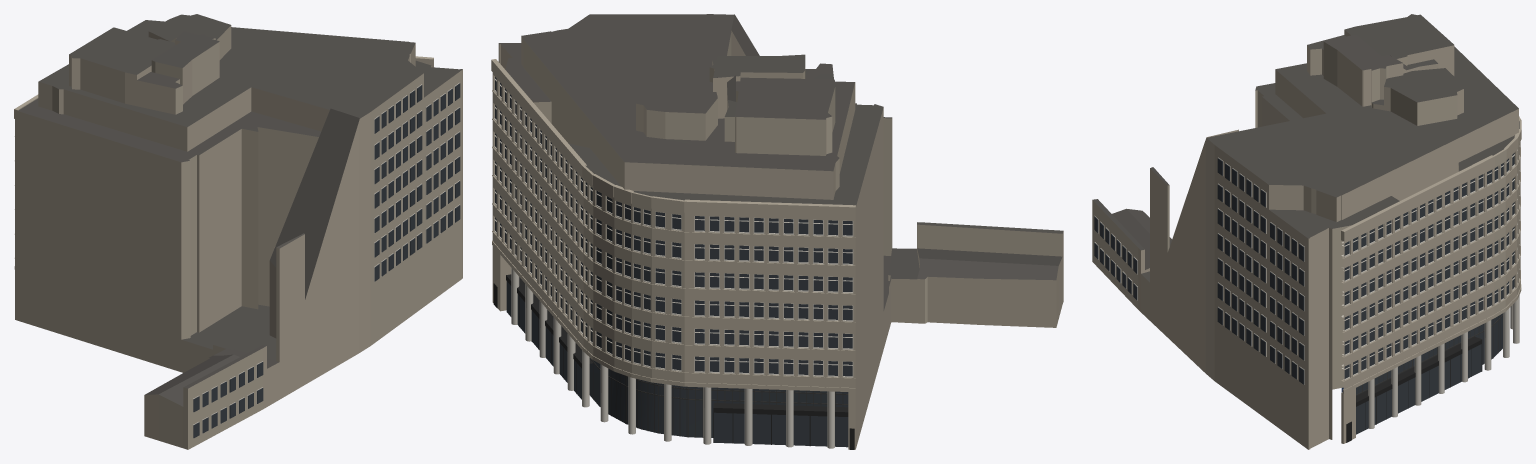
File: aurora-overtoom.glb
3 renders of one model, left to right at view 1: azimuth 30°, elevation 25°; view 2: azimuth 150°, elevation 25°; view 3: azimuth 270°, elevation 25°, orthographic. The views are drawn at different scales.
Parts seen in each view (by area): view 1: aurora-overtoom; view 2: aurora-overtoom; view 3: aurora-overtoom.
Boxes of the visible parts, left/top/right/bottom form: aurora-overtoom: left=14, top=14, right=462, bottom=449; aurora-overtoom: left=491, top=14, right=1063, bottom=449; aurora-overtoom: left=1092, top=14, right=1521, bottom=449.
Bounding box in the file's own units: 54.89 × 35.5 × 50.45.
